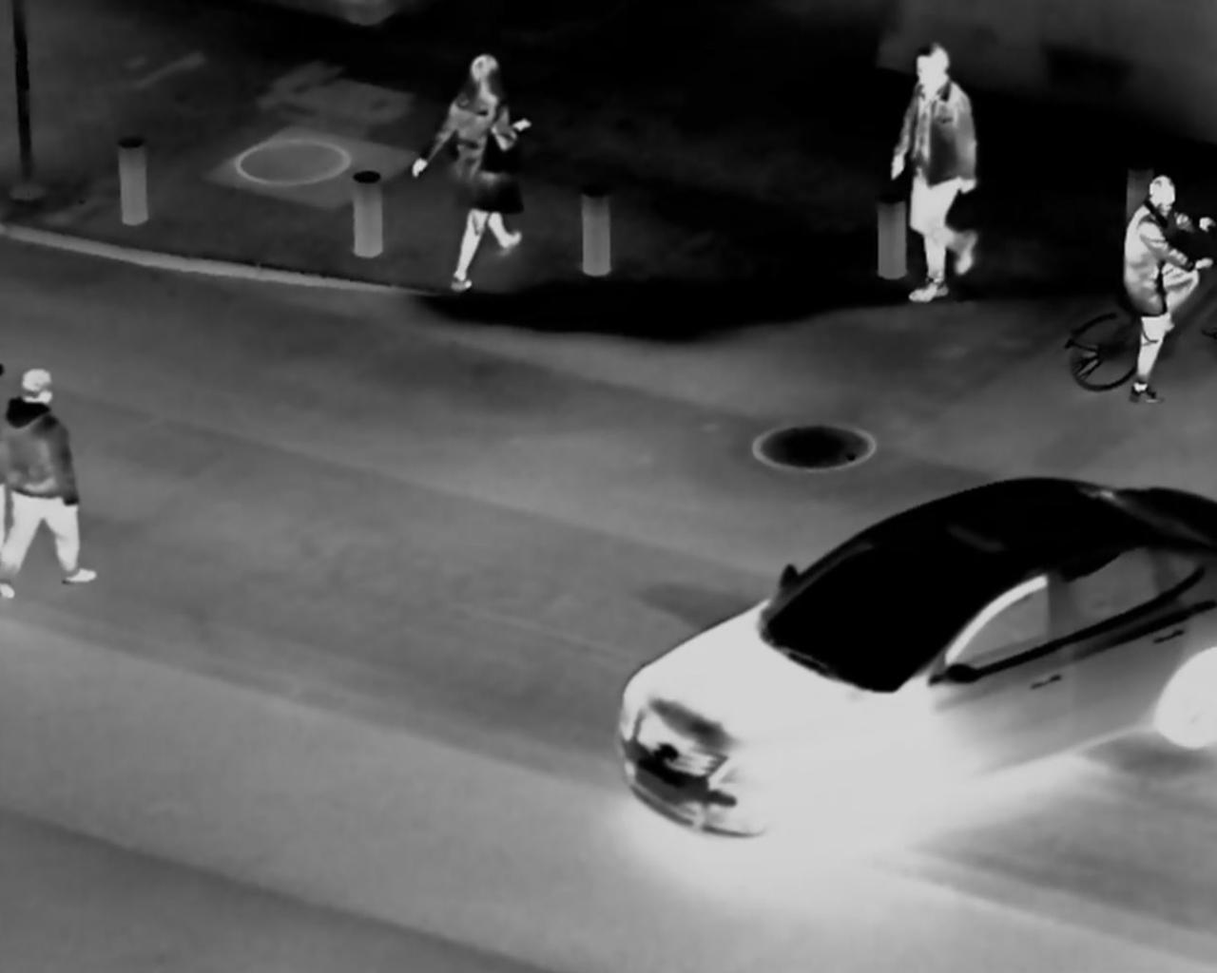person: (884, 37, 989, 312), (417, 48, 535, 289), (1112, 162, 1213, 408), (5, 364, 106, 604)
